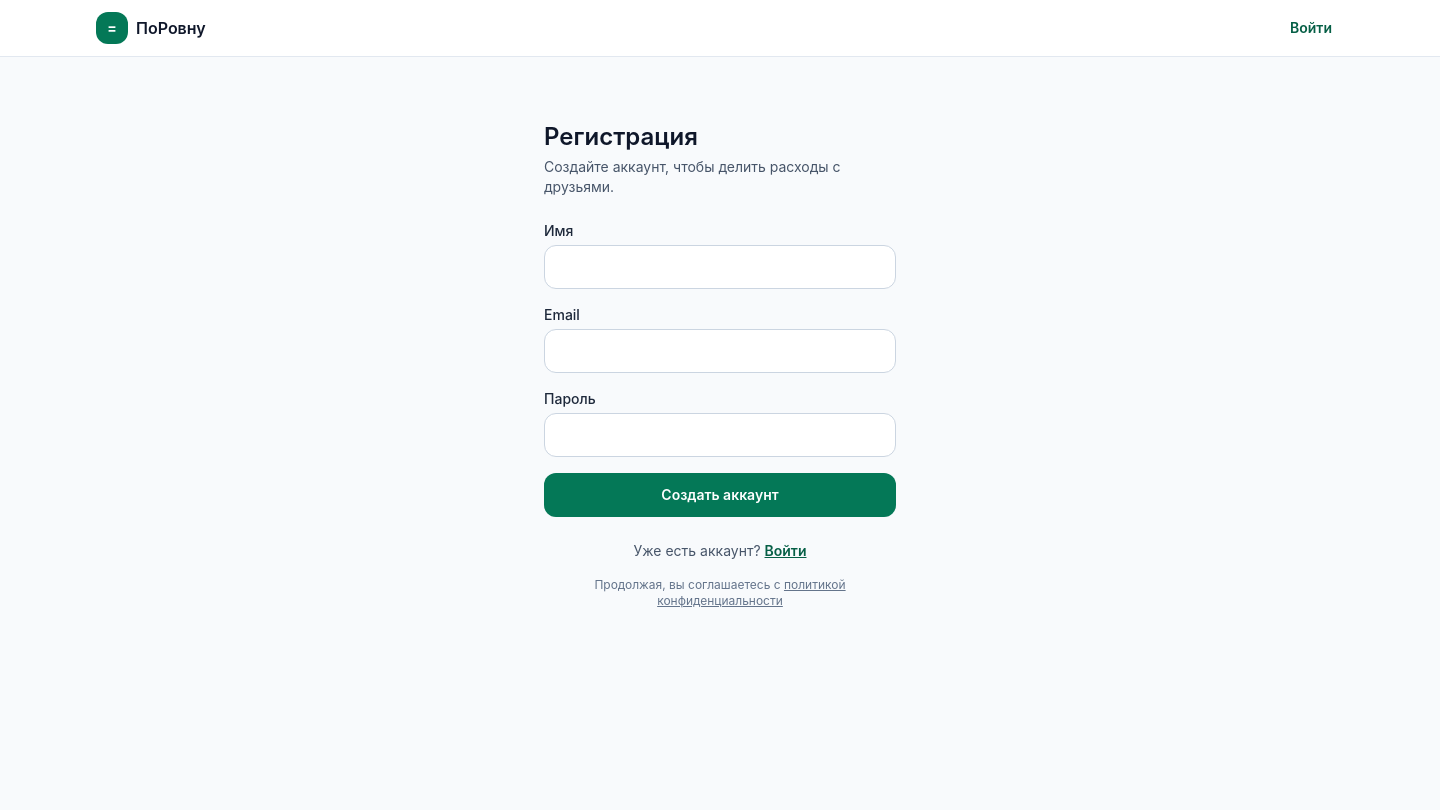
Test: вход, регистрация и защищённые маршруты (US-01, FR-1.1, FR-1.2) › регистрация проверяет имя, email и пароль до запроса (AC-T1.1)
The width and height of the screenshot is (1440, 810).
Type "не-email" into the field labelled "Email".
click(720, 351); type("не-email")  # box [544, 329, 896, 373]
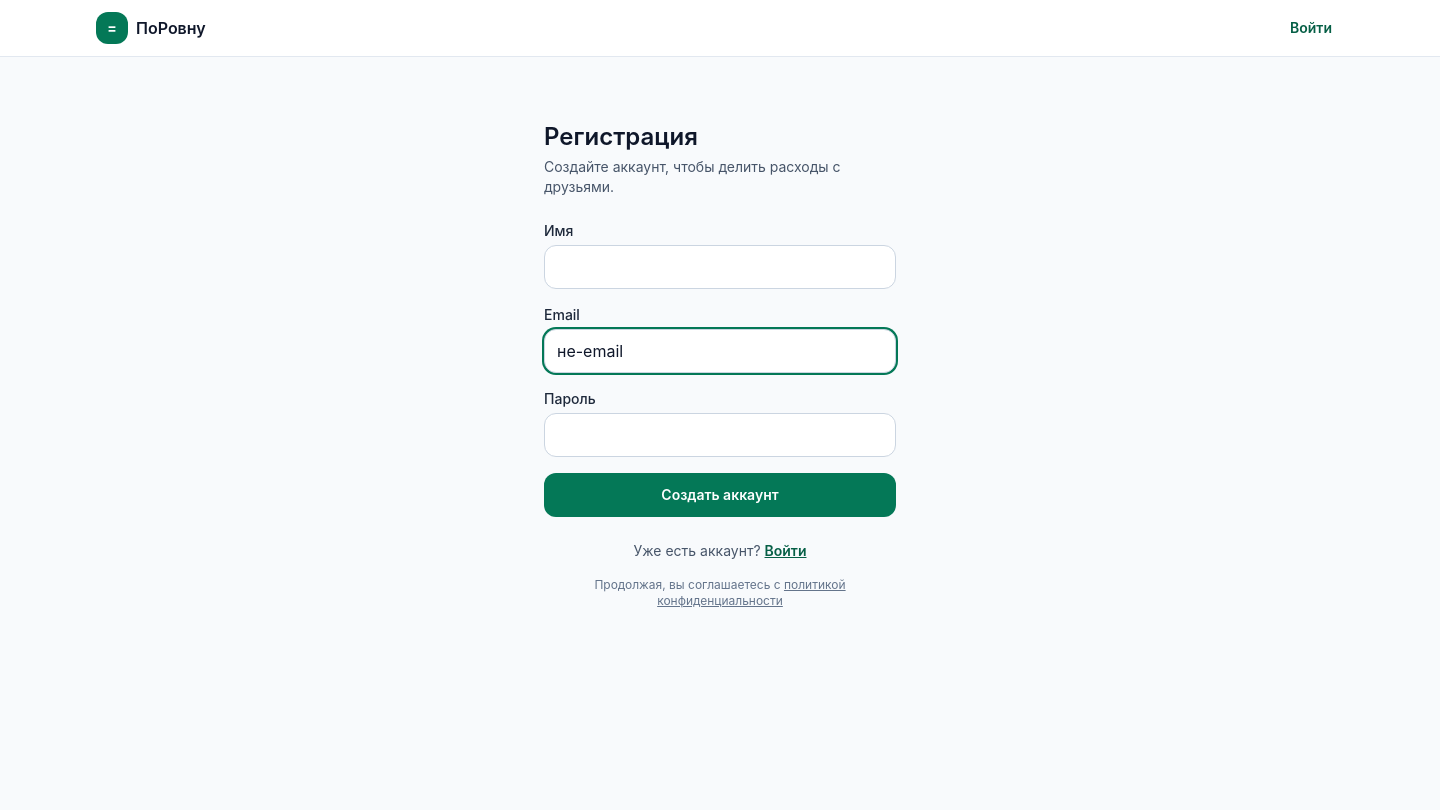
Type "1234567" into the password field labelled "Пароль".
click(720, 435); type("1234567")  # box [544, 413, 896, 457]
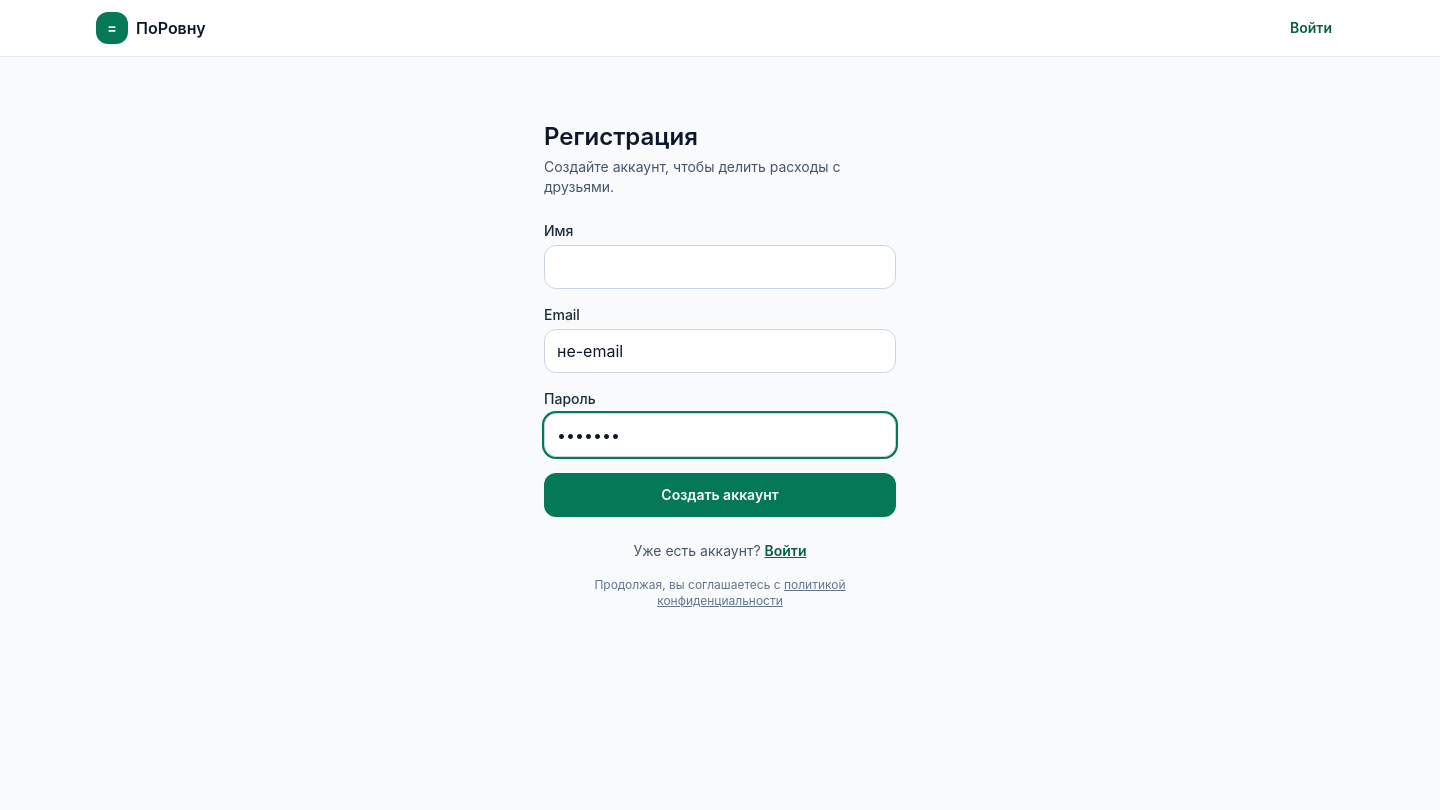
Click the button "Создать аккаунт".
click(720, 495)  # box [544, 473, 896, 517]
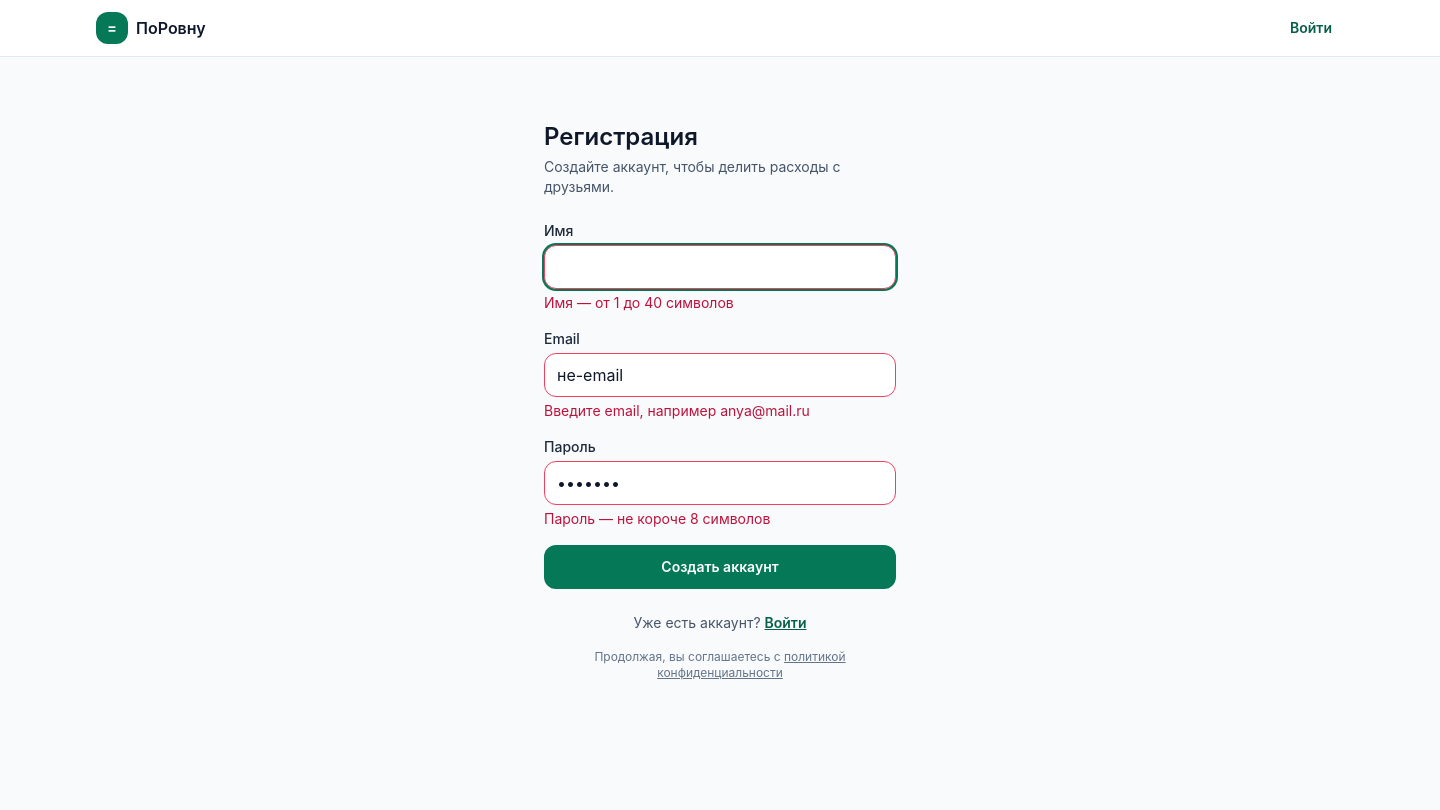
Now the text "Имя — от 1 до 40 символов" is shown, box [544, 294, 734, 311]
Now the text "Введите email, например anya@mail.ru" is shown, box [544, 402, 810, 419]
Now the text "Пароль — не короче 8 символов" is shown, box [544, 510, 770, 527]
